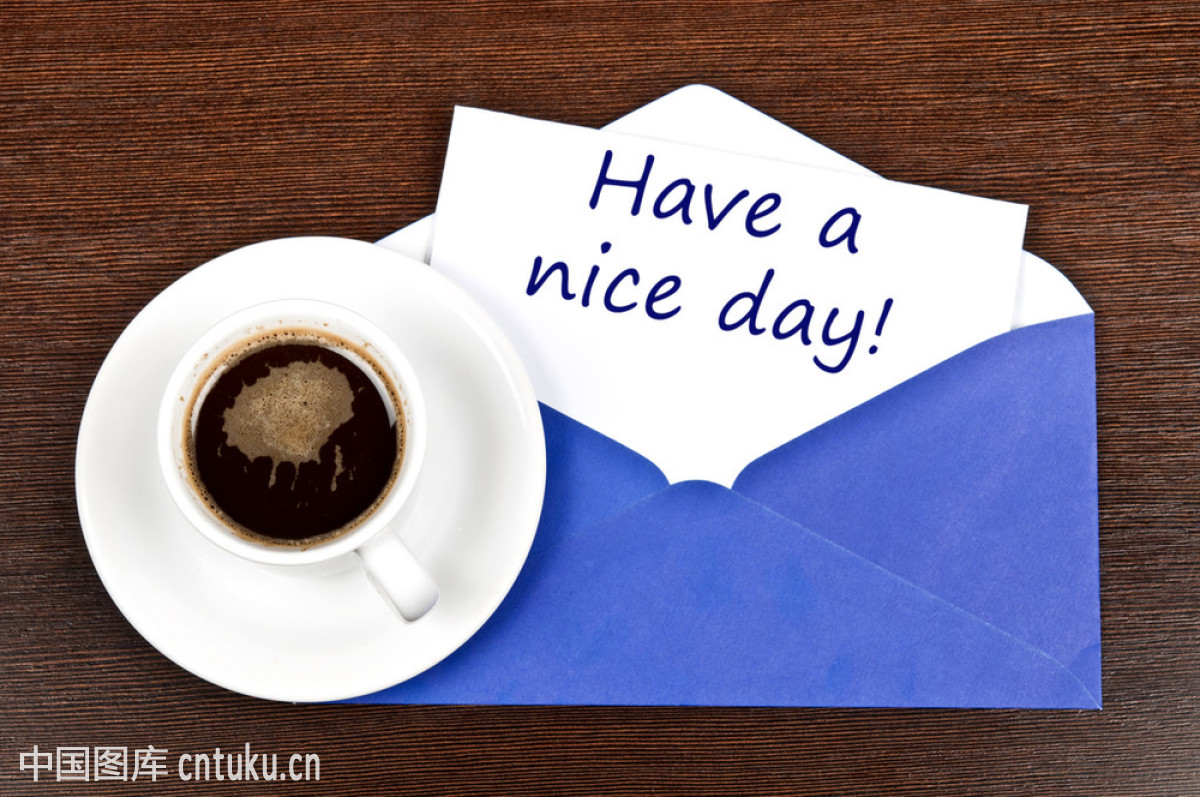cup: (155, 294, 443, 624)
